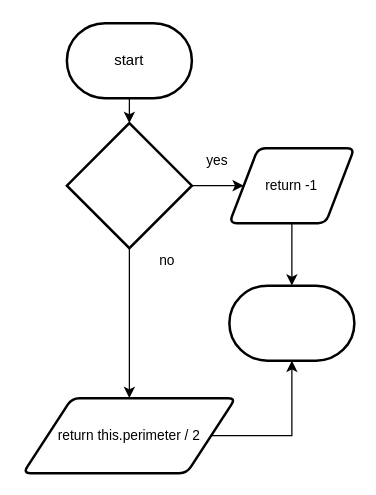
Image size: 376x495. Some labels were removed from this diagram. The shapes that lost their labels are listed below. From the top down, each one's box as (x1, y1, x2, y2) in pixels, then its label:
(65, 121, 192, 249): if !this.isValid()
(228, 284, 355, 361): stop
